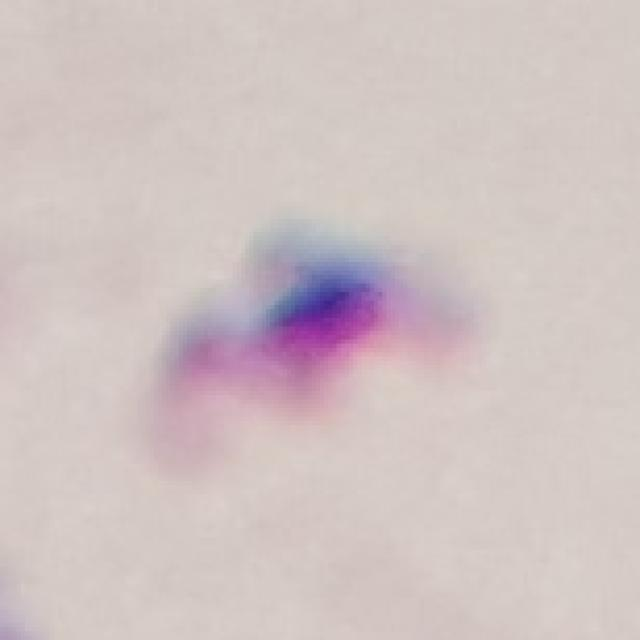non-sperm: (173, 225, 442, 402)
